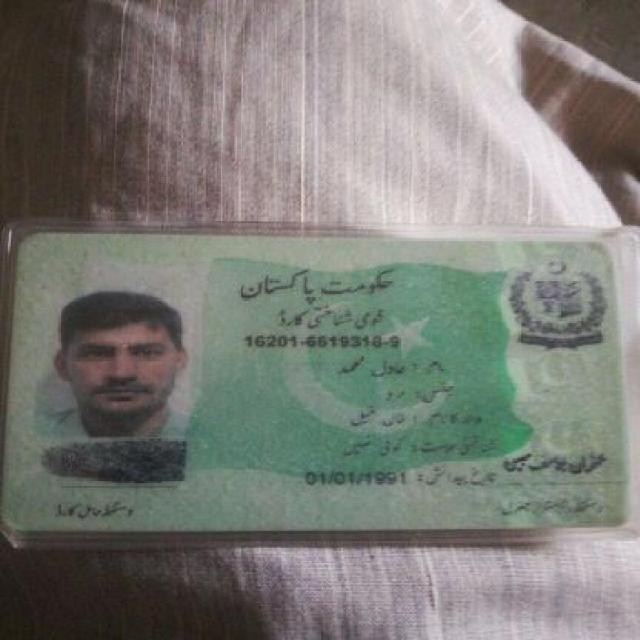Front: (8, 227, 630, 538)
